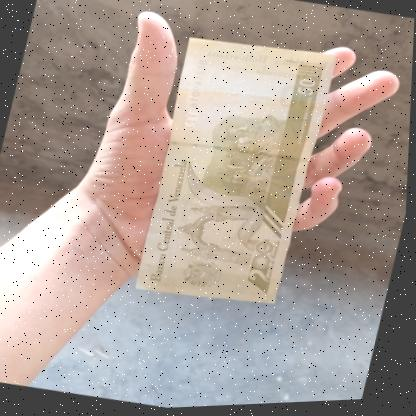fifty-back-vef: (132, 29, 338, 317)
